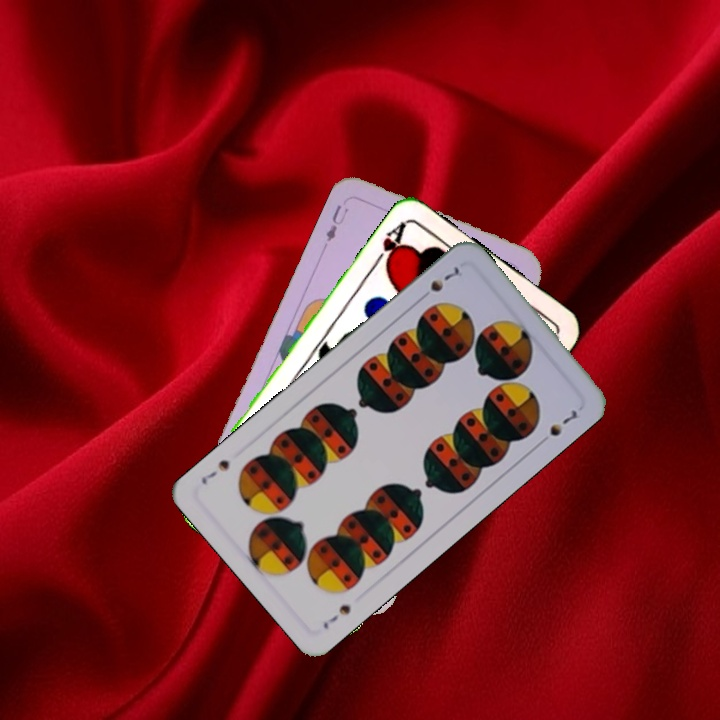EU: (322, 200, 351, 245)
HA: (369, 217, 409, 273)
S7: (415, 262, 463, 303), (318, 600, 353, 632)
